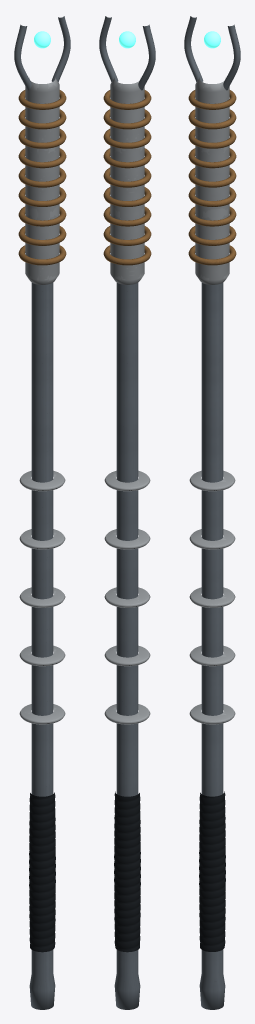
The model's file is channeling-rod.glb.
3 views of the same model, side by side, from view 1: azimuth 30°, elevation 25°; view 2: azimuth 150°, elevation 25°; view 3: azimuth 330°, elevation 25° (orthographic).
Visible parts, largest first — view 1: alloy / machined anodized alloy, ceramic / ceramic composite panel, polymer / stippled polymer, bronze / cast bronze with patina, energy / emissive field channel; view 2: alloy / machined anodized alloy, ceramic / ceramic composite panel, polymer / stippled polymer, bronze / cast bronze with patina, energy / emissive field channel; view 3: alloy / machined anodized alloy, ceramic / ceramic composite panel, polymer / stippled polymer, bronze / cast bronze with patina, energy / emissive field channel.
Boxes of the visible parts, x1,y1,x2,y2 form: alloy / machined anodized alloy: [14, 16, 70, 1009]; ceramic / ceramic composite panel: [19, 78, 65, 724]; polymer / stippled polymer: [29, 792, 55, 952]; bronze / cast bronze with patina: [18, 90, 66, 265]; energy / emissive field channel: [34, 31, 50, 48]; alloy / machined anodized alloy: [99, 16, 155, 1009]; ceramic / ceramic composite panel: [104, 78, 150, 724]; polymer / stippled polymer: [114, 791, 140, 952]; bronze / cast bronze with patina: [103, 90, 151, 265]; energy / emissive field channel: [119, 31, 135, 48]; alloy / machined anodized alloy: [184, 16, 240, 1009]; ceramic / ceramic composite panel: [189, 78, 235, 724]; polymer / stippled polymer: [199, 791, 225, 951]; bronze / cast bronze with patina: [188, 90, 236, 265]; energy / emissive field channel: [204, 31, 220, 48].
Size of the model in its own units: 0.0904 by 1.52 by 0.067.
Materials: 5 (4 with a texture image).
